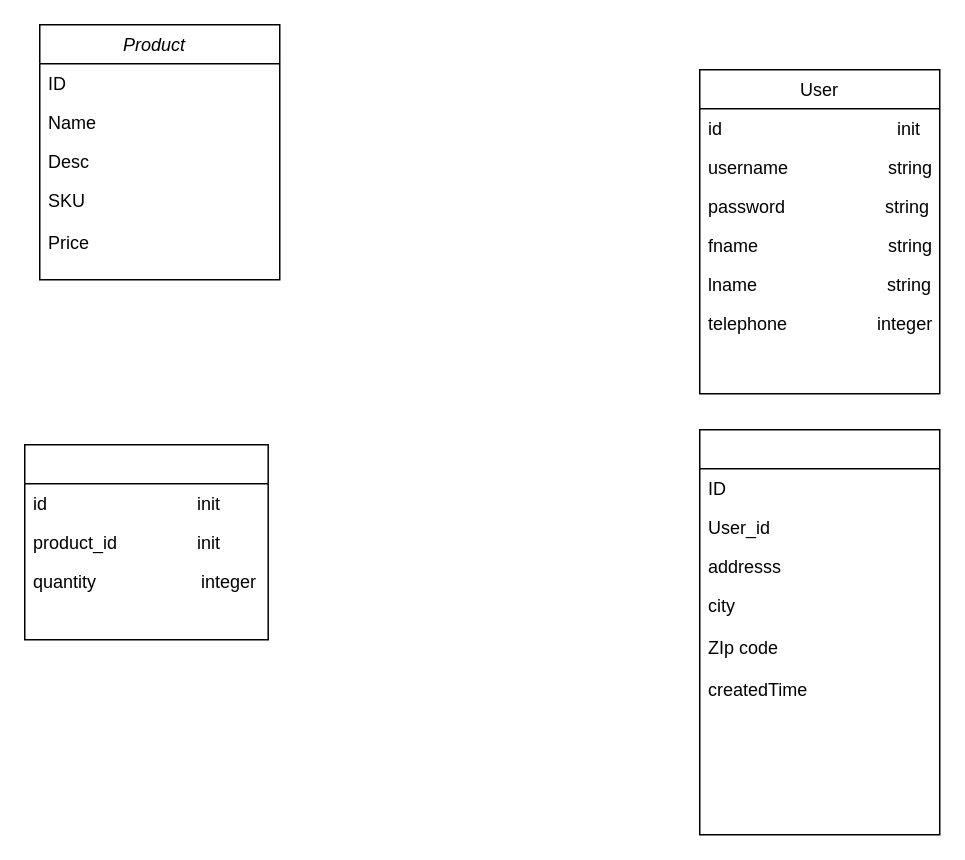
The diagram is 965 pixels wide and 860 high, and some of its shapes have lost their labels. Each missing label, with the box of its shape:
cart_item: (23, 443, 268, 640)
User_address: (698, 428, 940, 835)
